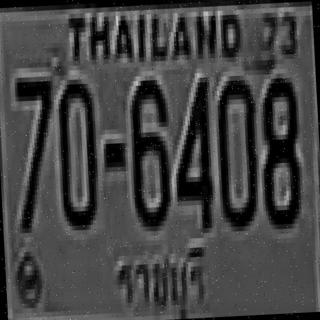N00: (214, 75, 260, 228), (55, 74, 98, 226)
N04: (171, 75, 214, 227)
N06: (126, 75, 172, 227)
N07: (12, 72, 58, 228)
N08: (256, 73, 302, 225)
P52: (113, 232, 212, 320)
